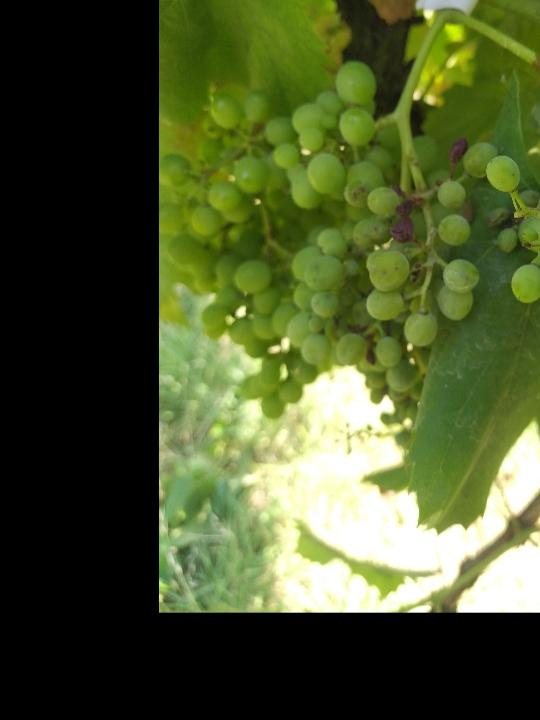grape: (264, 63, 500, 395)
